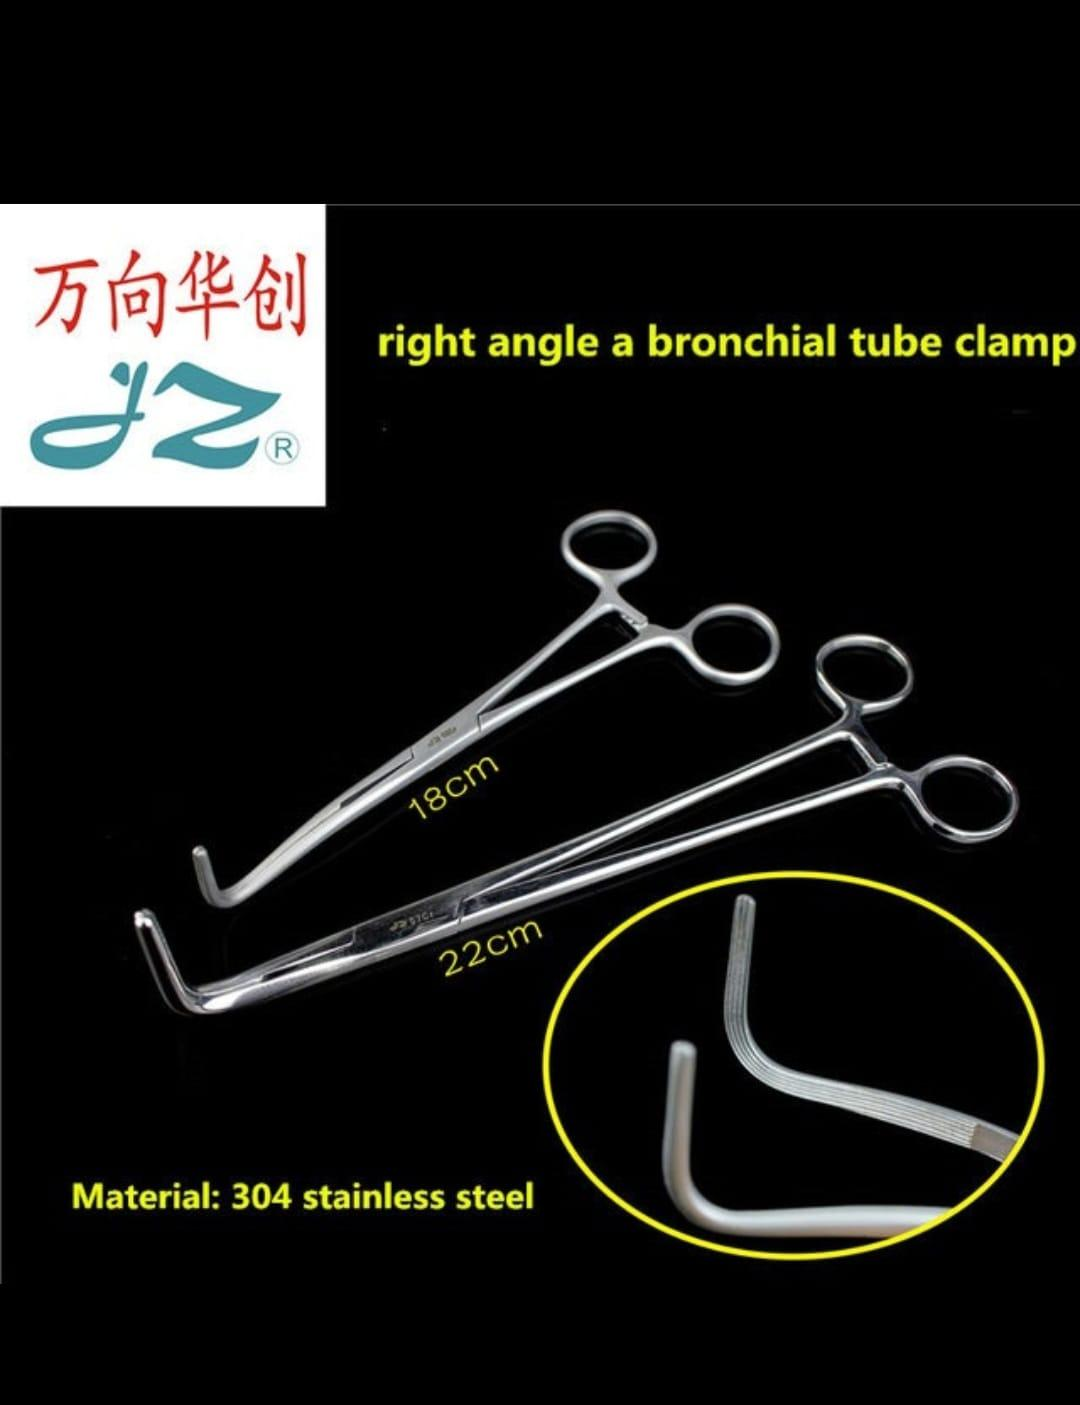Rectangle Cholecystectomy Forceps: (134, 623, 1028, 1038), (186, 486, 781, 920)
